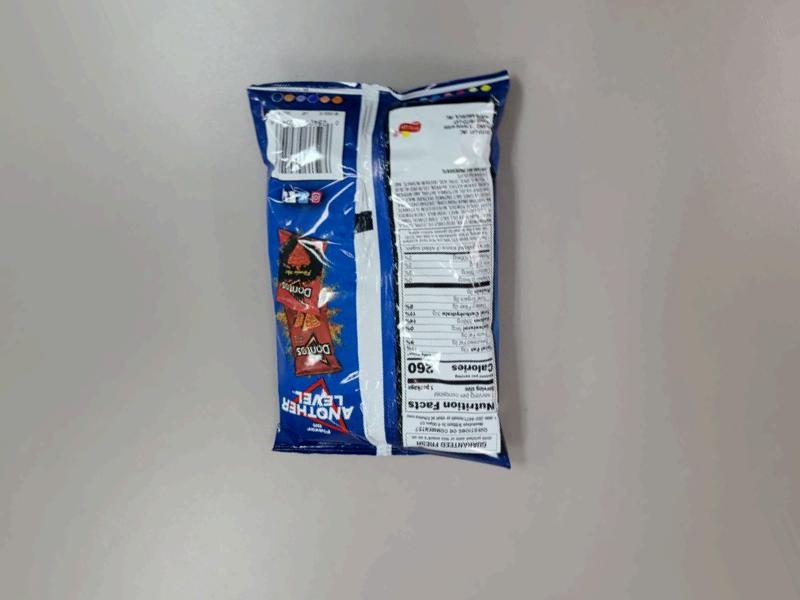doritos: (245, 82, 528, 501)
